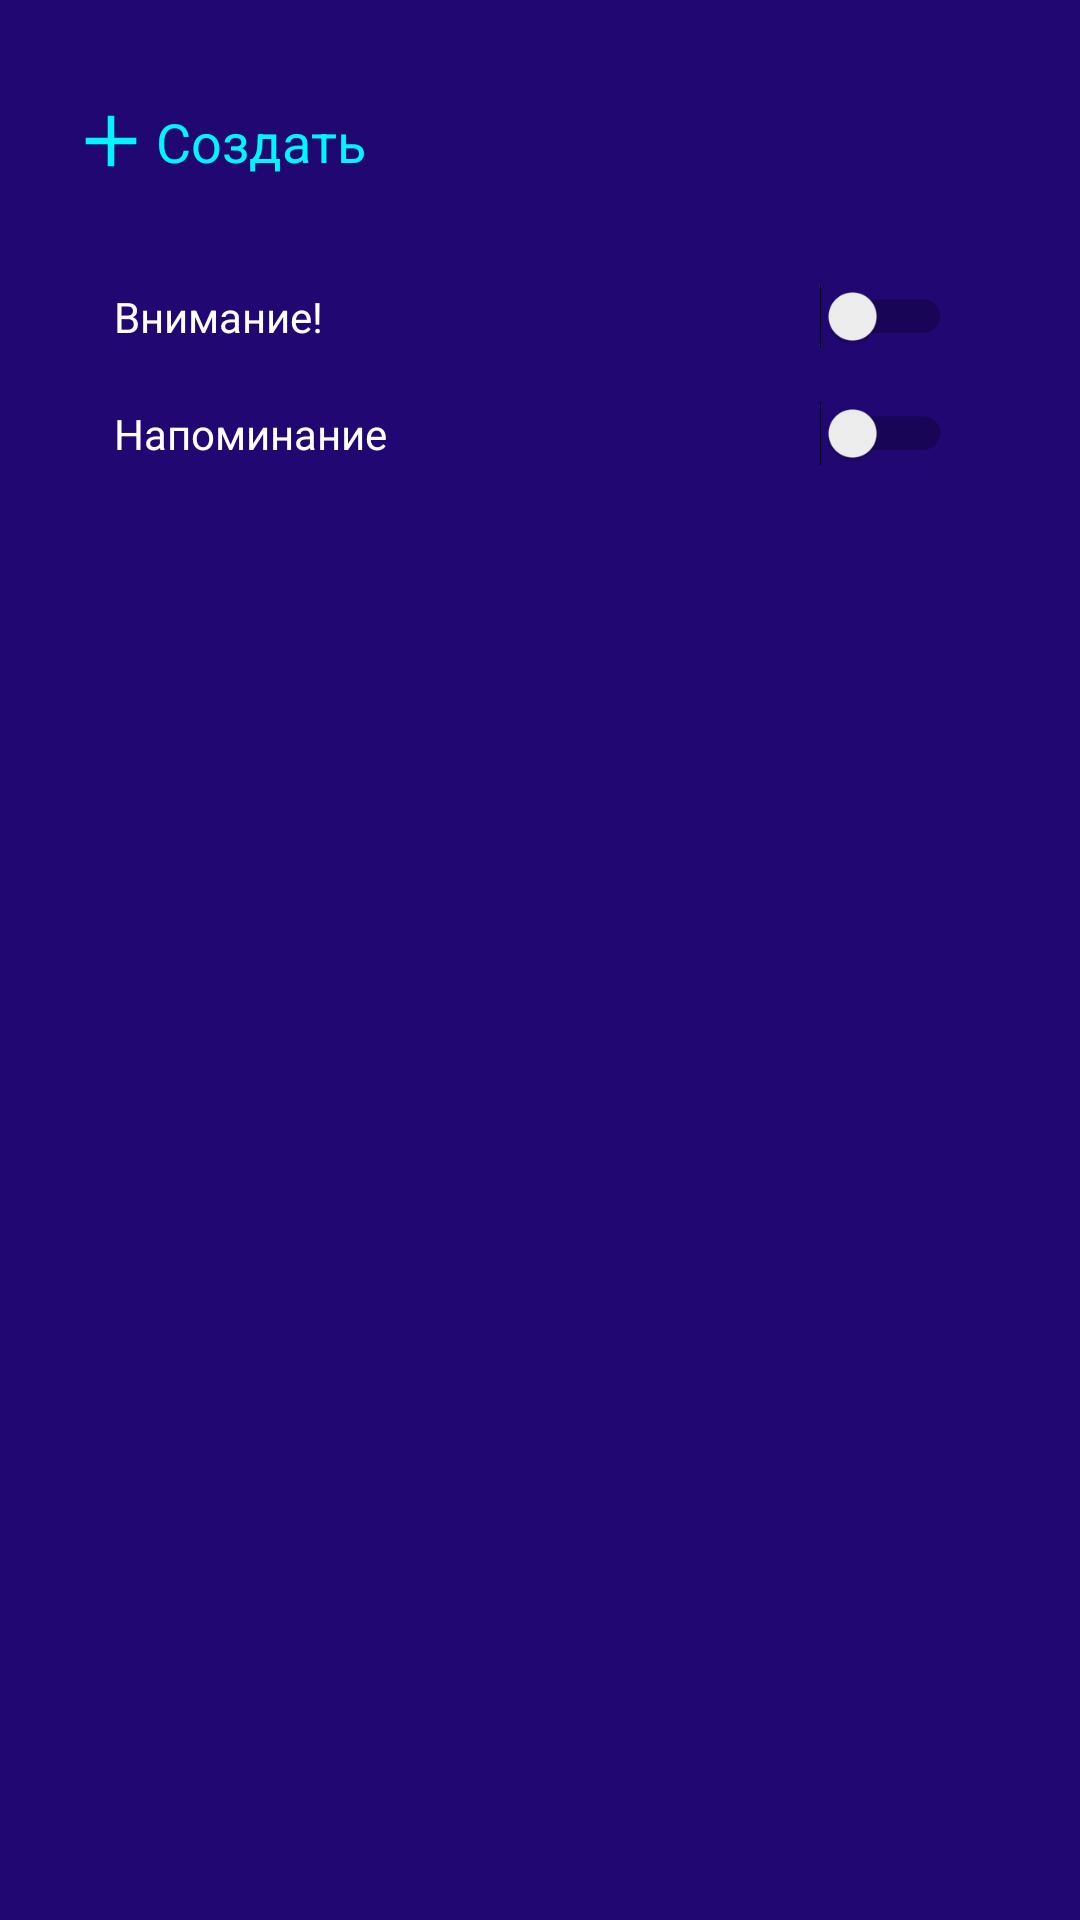

Icon click points for this 1080px x 1920px phone screenshot, format (x=x, y=y):
add reminder: (x=111, y=141)
